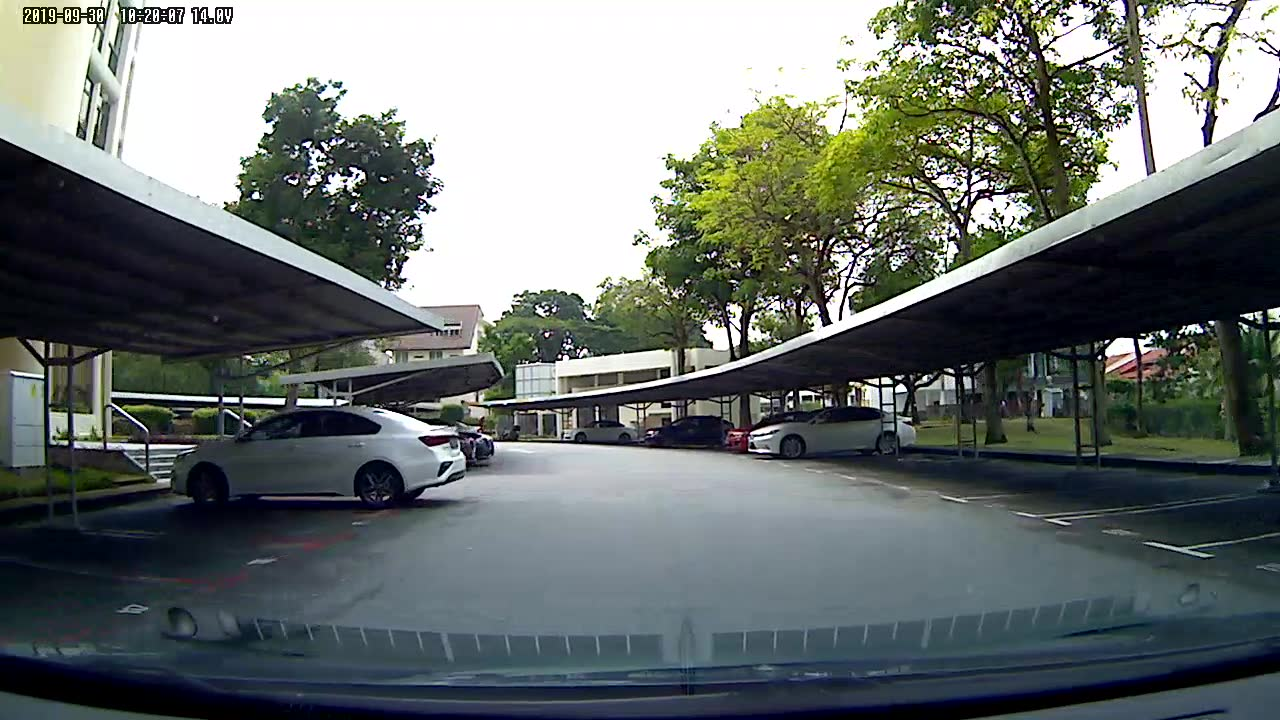car: (172, 404, 469, 511), (748, 403, 921, 465), (640, 412, 735, 452), (563, 417, 640, 447)
